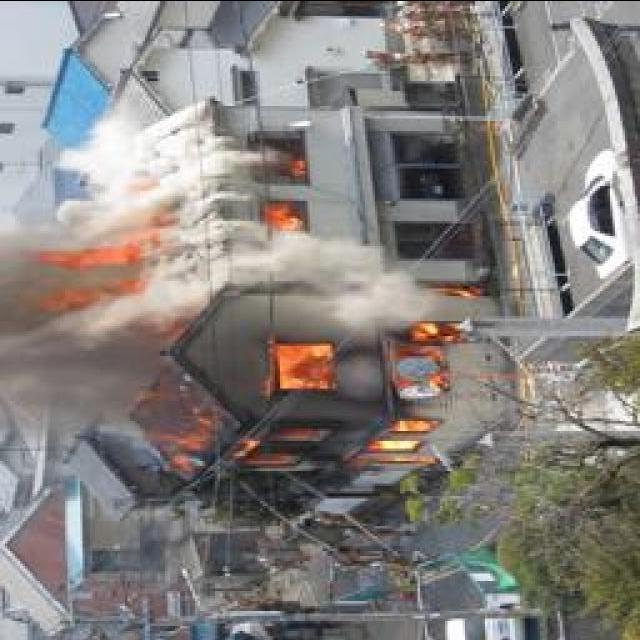Fire: (137, 314, 470, 478), (48, 235, 154, 310), (270, 147, 314, 226)
